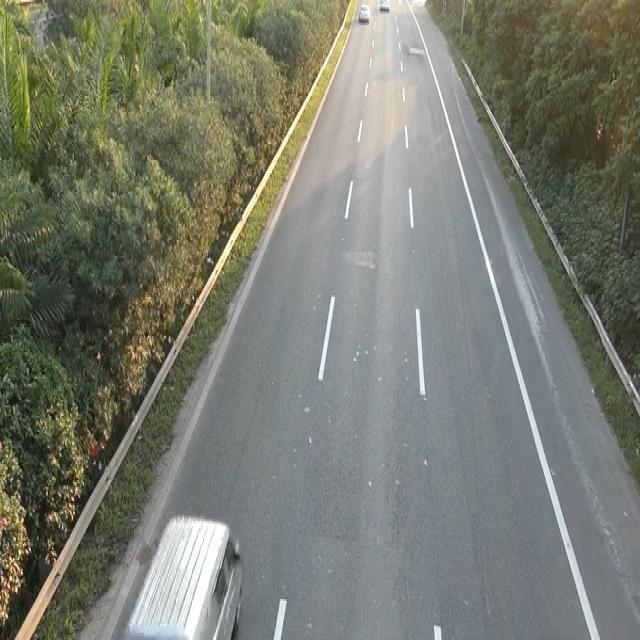lorry: (122, 508, 245, 636)
